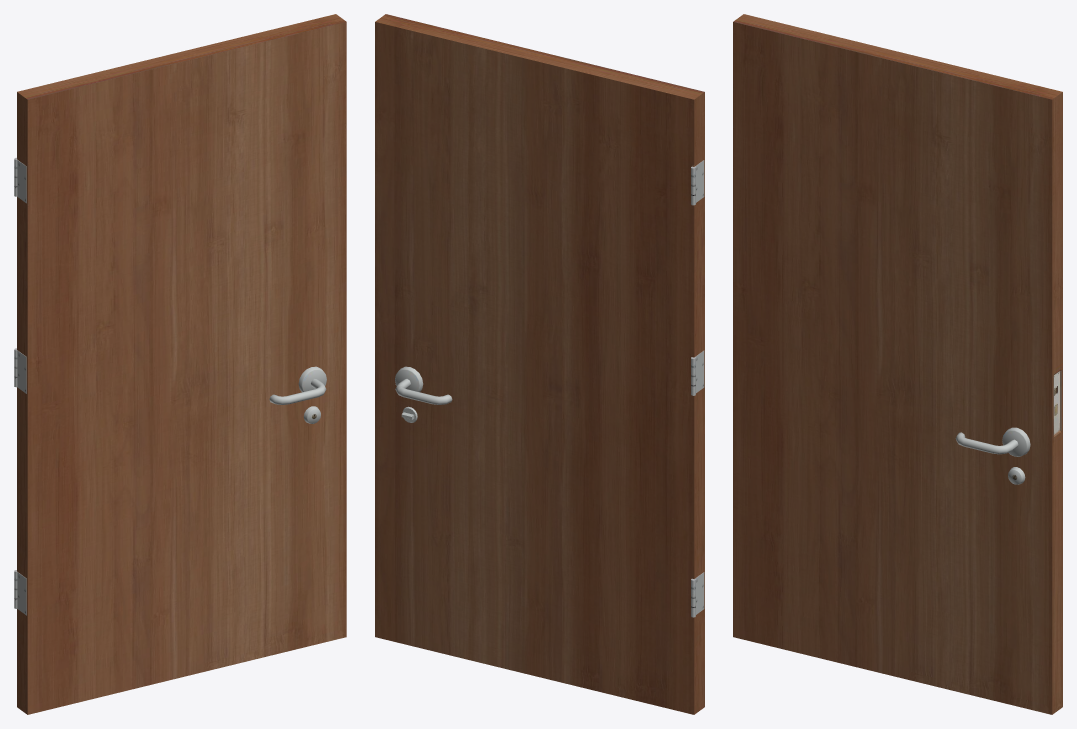
Rendered from SM_Door_04.glb.
3 views of the same model, side by side, from view 1: azimuth 30°, elevation 25°; view 2: azimuth 150°, elevation 25°; view 3: azimuth 330°, elevation 25° (orthographic).
Parts seen in each view (by area): view 1: SM_Door_04; view 2: SM_Door_04; view 3: SM_Door_04.
Part boxes in pixels (x1,y1,x2,y2): SM_Door_04: (14, 14, 346, 714); SM_Door_04: (375, 14, 704, 714); SM_Door_04: (733, 14, 1062, 714).
Size of the model in its own units: 1.31 by 2.39 by 0.303.
1 material, 1 textured.
